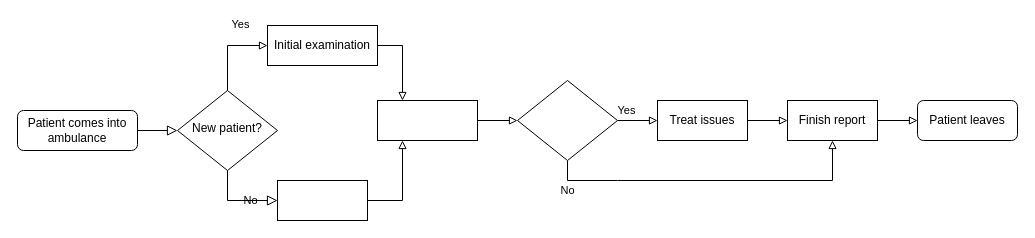
This 1035x238 diagram has some shape labels left out. Here are the shapes that lost their labels. From the top down, the centre of each, then its label:
(427,120): Examine and diagnose
(567,120): Any issues?
(322,200): Check history
